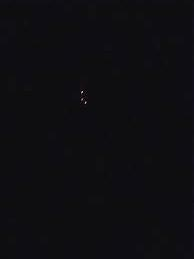Plane: (71, 81, 94, 114)
